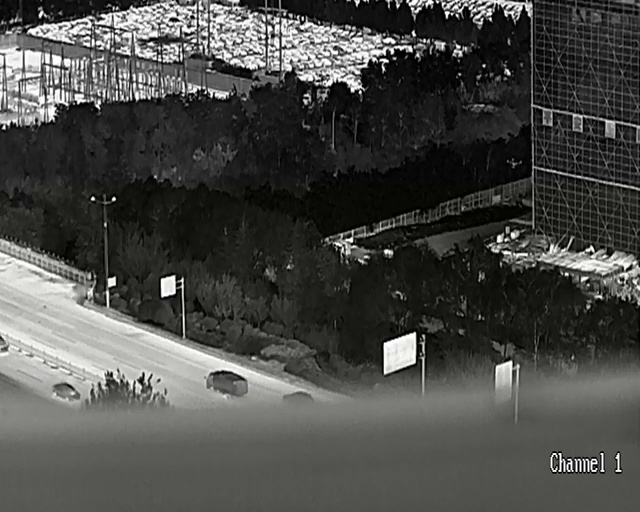uav: (506, 157, 521, 167)
